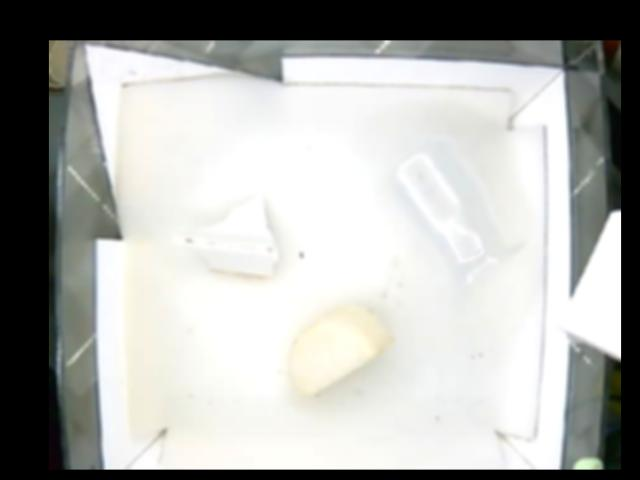Bottle: (385, 145, 528, 292)
China: (174, 195, 278, 277)
Mooli: (286, 306, 394, 390)
